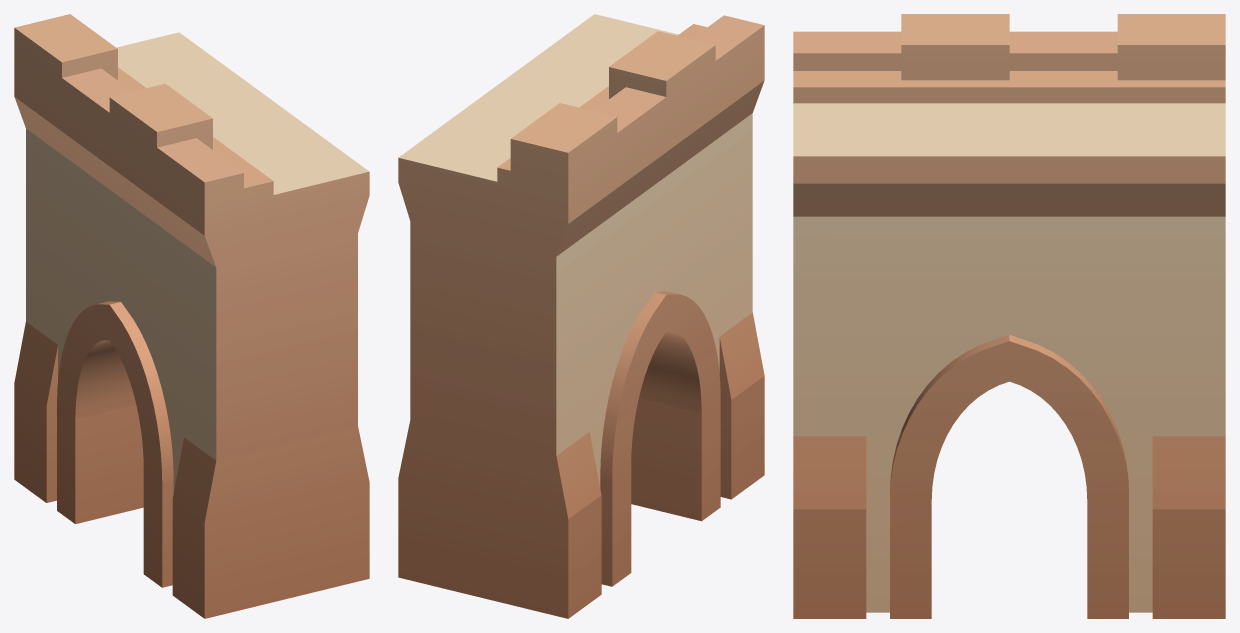
File: k-castle-wall-doorway.glb
3 renders of one model, left to right at view 1: azimuth 30°, elevation 25°; view 2: azimuth 150°, elevation 25°; view 3: azimuth 270°, elevation 25°, orthographic. The views are drawn at different scales.
Parts seen in each view (by area): view 1: wall-doorway; view 2: wall-doorway; view 3: wall-doorway.
Part boxes in pixels (left/top/right/bottom): wall-doorway: left=14, top=14, right=369, bottom=618; wall-doorway: left=398, top=14, right=764, bottom=618; wall-doorway: left=793, top=14, right=1225, bottom=618.
Bounding box in the file's own units: 0.4999 × 1.31 × 1.
1 material, 1 textured.
